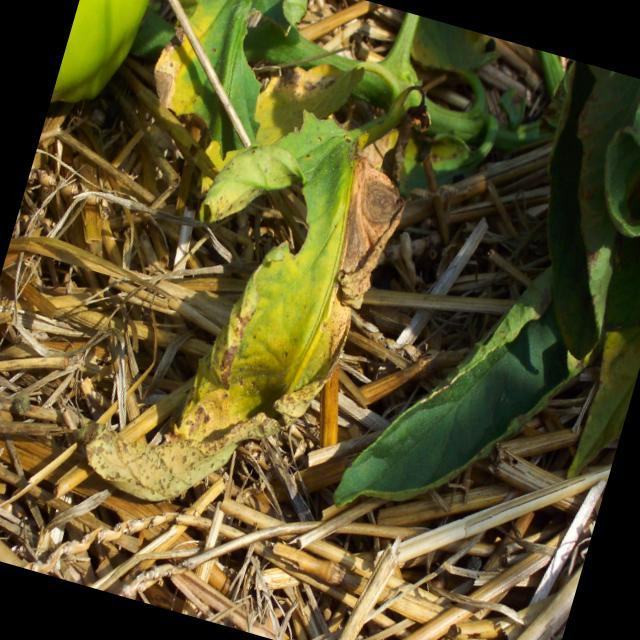Tomato Early blight leaf: (79, 78, 422, 543)
